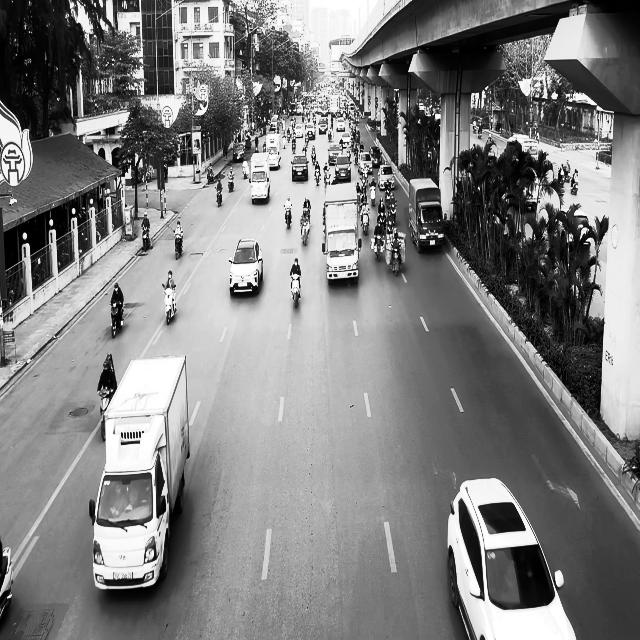car: (447, 477, 577, 639), (228, 237, 263, 296), (291, 154, 309, 181), (377, 164, 395, 190), (335, 154, 351, 181)
motorbike: (98, 387, 114, 441), (162, 283, 176, 325), (110, 300, 124, 338), (290, 274, 302, 308), (390, 244, 401, 276), (372, 232, 384, 260), (173, 230, 183, 260), (300, 217, 310, 246), (141, 225, 151, 252), (284, 205, 292, 229), (215, 186, 222, 207), (228, 175, 234, 192)
truck: (89, 354, 190, 592), (322, 183, 361, 285), (408, 177, 445, 253)
